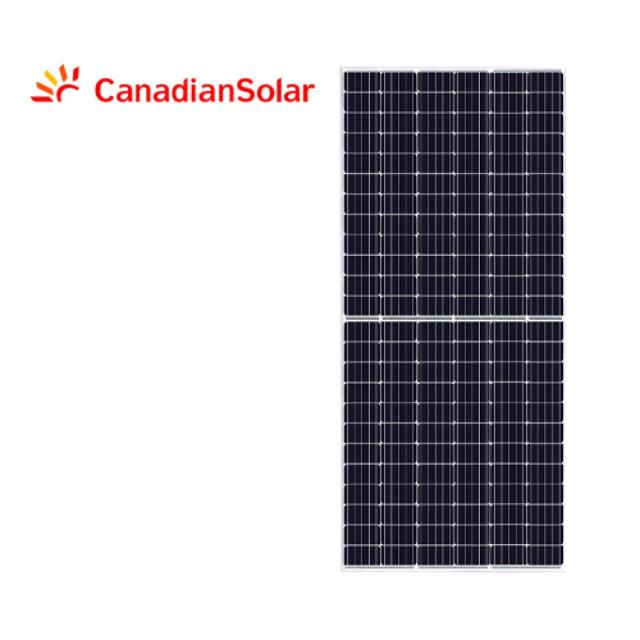clean-solar-panel: (345, 71, 562, 568)
